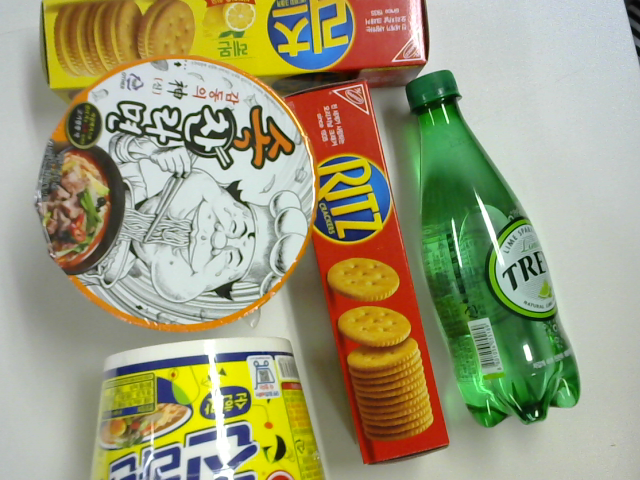Hejangchan: (33, 65, 323, 328)
Jinlamyeon_Mild_Taste_Large_Cup: (91, 334, 324, 480)
Ritz_Cracker: (278, 78, 454, 478)
Ritz_Remon_96g: (20, 1, 439, 85)
Treviraim_500ml: (374, 47, 584, 443)
